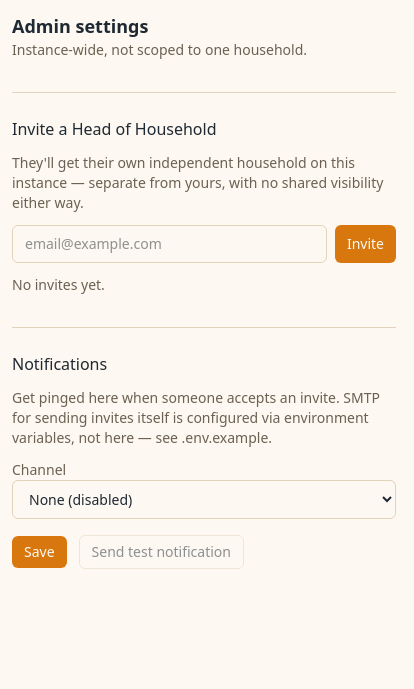
Test: AdminSettingsPage › shows an error message when saving fails
Expected: the text "Channel" is shown, [12,460,66,479]
Select "Generic webhook" in the dropdown labelled "Channel" at (204, 500), box [12,480,396,519]
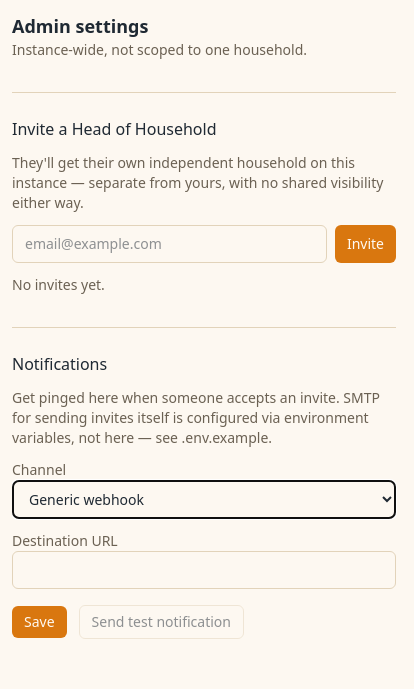
Type "not-a-url" into the field labelled "Destination URL".
click(204, 570); type("not-a-url")  # box [12,551,396,589]
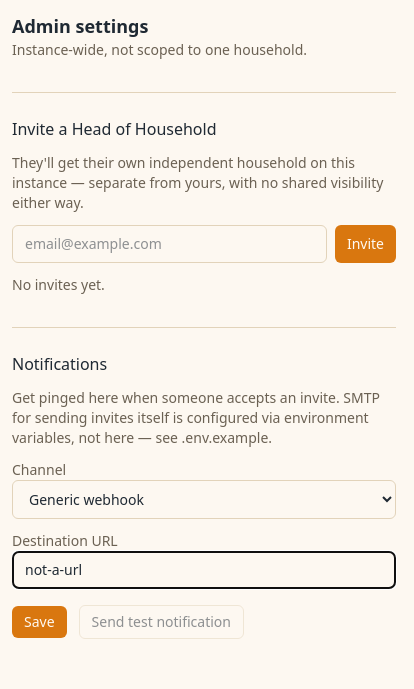
Click the button "Save".
click(39, 622)  # box [12,606,67,638]
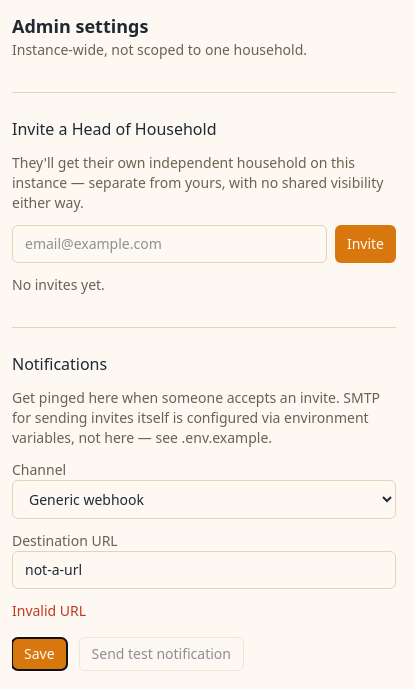
Expected: the message reads "Invalid URL", [12,601,86,620]
